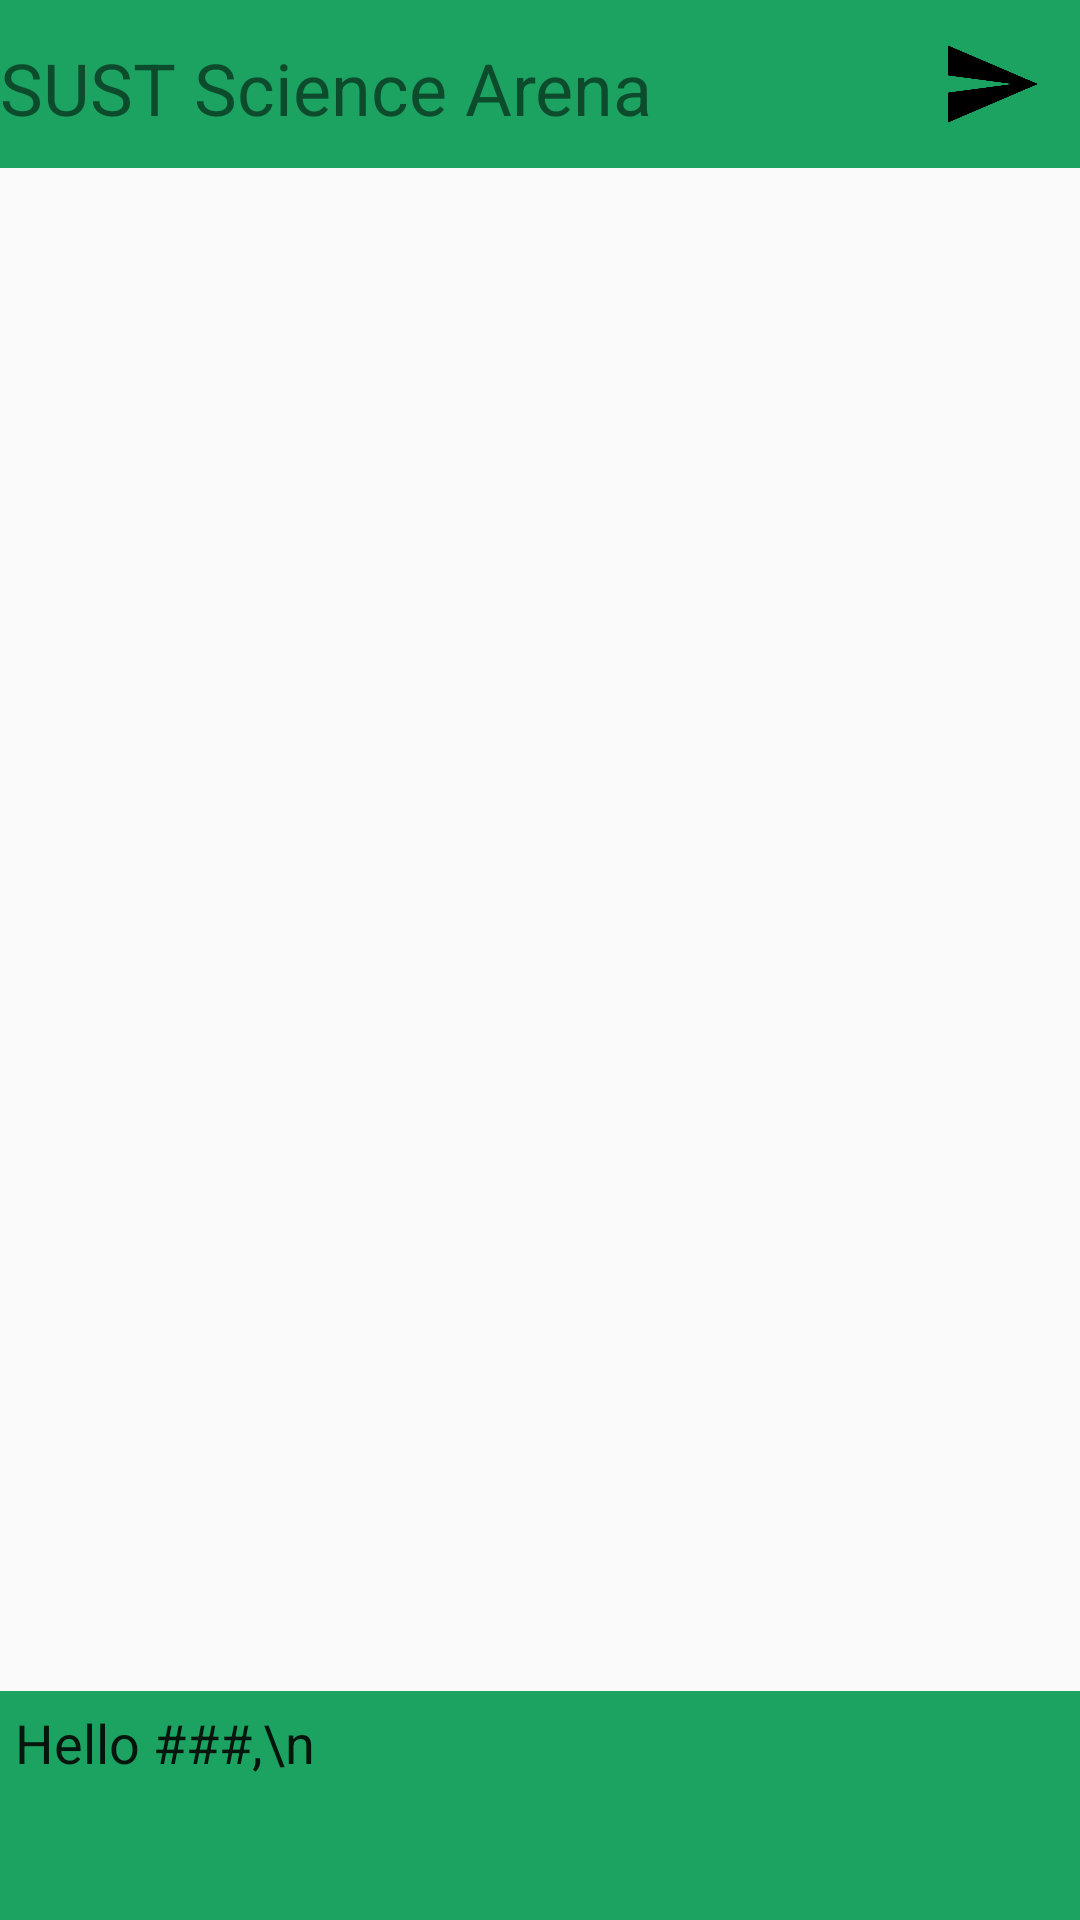

Icons on this 1080x1920 Android screen, each with the point to tap as point (x, y):
send: point (992, 84)
